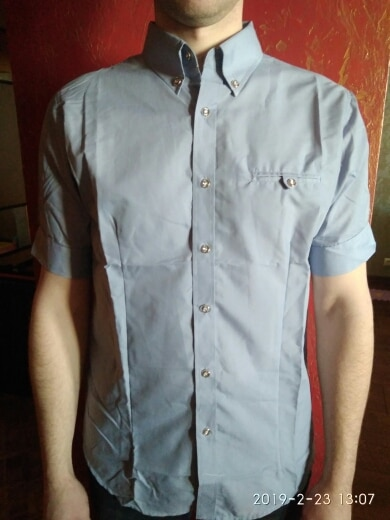shirts: (33, 31, 383, 520)
